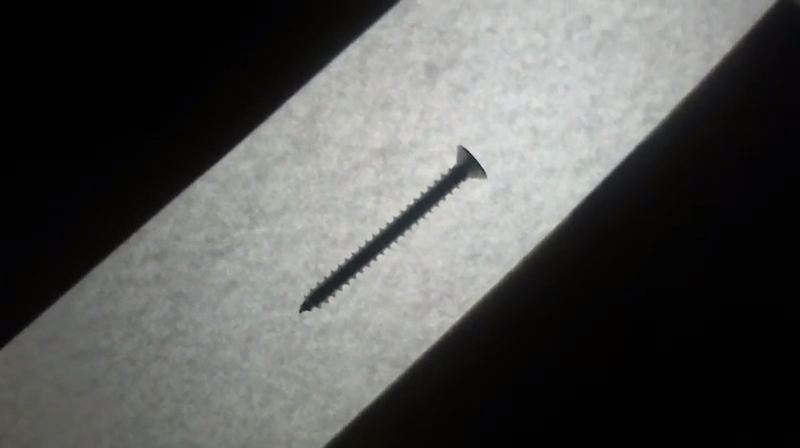S002: (296, 143, 492, 317)
